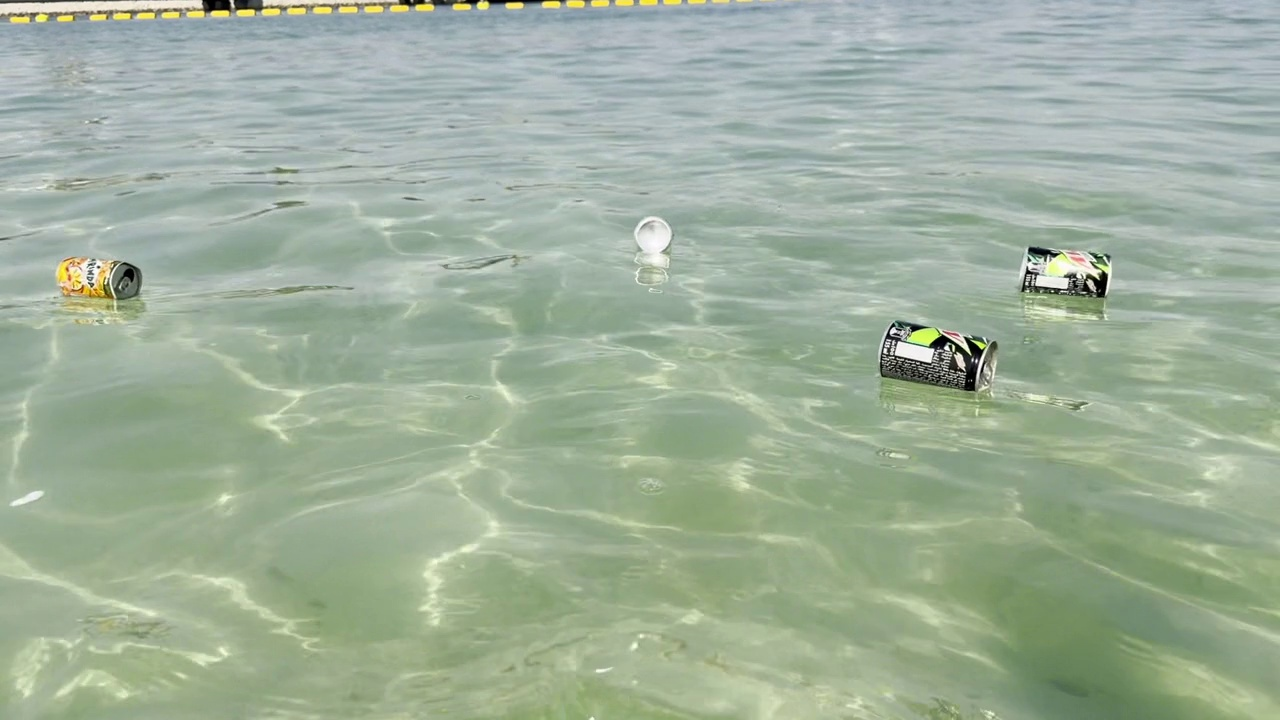debris: (873, 314, 1002, 402), (1010, 236, 1118, 313), (54, 248, 146, 304), (626, 212, 680, 257)
